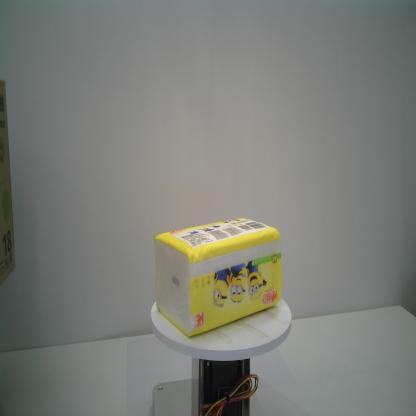Tissue: (152, 213, 283, 340)
